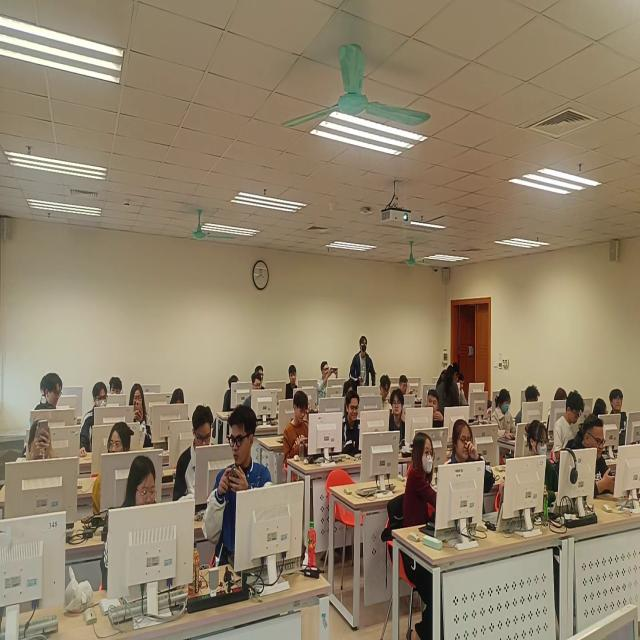raise_head: (445, 416, 496, 516), (403, 432, 439, 533), (611, 386, 629, 446), (426, 386, 445, 431), (390, 390, 406, 443), (286, 363, 297, 400), (257, 362, 267, 387)
stand: (348, 332, 377, 387), (437, 359, 459, 411)
using_computer: (101, 449, 161, 590), (174, 403, 214, 506), (523, 419, 559, 512), (79, 381, 108, 458), (554, 388, 587, 454), (493, 389, 518, 444), (342, 388, 361, 456), (515, 384, 542, 428), (222, 372, 241, 412), (592, 393, 612, 421), (458, 372, 472, 405), (169, 384, 187, 409), (380, 372, 391, 409), (110, 375, 127, 396), (401, 372, 411, 396)
using_phone: (209, 401, 275, 577), (566, 412, 617, 503), (283, 390, 309, 470), (23, 416, 59, 473), (131, 380, 155, 449), (318, 356, 342, 405)
